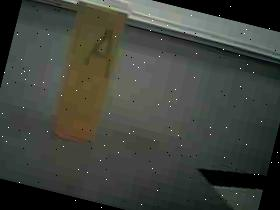Bottle A: (33, 0, 150, 157)
